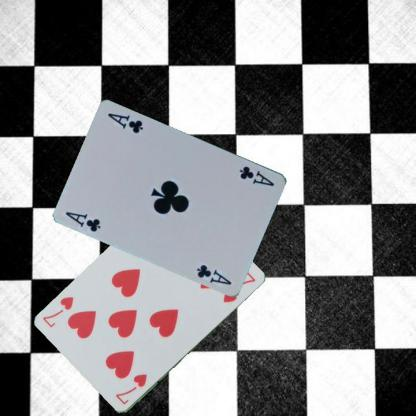7h: (112, 372, 148, 406)
Ac: (63, 209, 103, 233), (237, 163, 276, 187)
